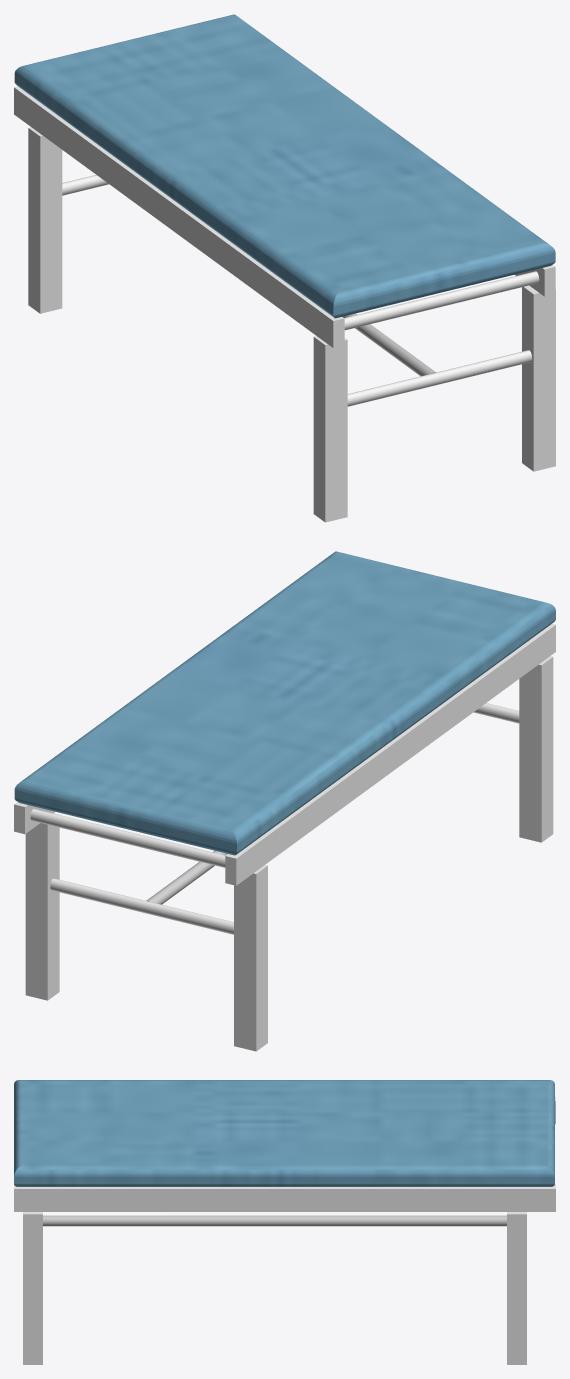
File: examination_bed.dae
The picture shows the model from 3 angles, top to bottom: view 1: azimuth 30°, elevation 25°; view 2: azimuth 150°, elevation 25°; view 3: azimuth 270°, elevation 25°; orthographic projection. The views are drawn at different scales.
Visible parts, largest first — view 1: E_mattress_14, E_Component89_7, E_Component87_9, E_Component87_13, E_Component87_4, E_Component91_6, E_Component91_8, E_Component90_5; view 2: E_mattress_14, E_Component89_7, E_Component87_9, E_Component87_13, E_Component87_12, E_Component91_10, E_Component91_11, E_Component90_5, E_Component89_3; view 3: E_mattress_14, E_Component89_3, E_Component90_5, E_Component87_12, E_Component87_4.
Boxes of the visible parts, left/top/right/bottom form: E_mattress_14: left=14, top=14, right=555, bottom=318; E_Component89_7: left=14, top=86, right=344, bottom=347; E_Component87_9: left=313, top=336, right=347, bottom=522; E_Component87_13: left=28, top=127, right=62, bottom=313; E_Component87_4: left=522, top=285, right=555, bottom=471; E_Component91_6: left=344, top=271, right=539, bottom=330; E_Component91_8: left=347, top=350, right=532, bottom=406; E_Component90_5: left=342, top=313, right=435, bottom=376; E_mattress_14: left=14, top=551, right=555, bottom=855; E_Component89_7: left=225, top=624, right=555, bottom=885; E_Component87_9: left=519, top=656, right=553, bottom=842; E_Component87_13: left=234, top=865, right=267, bottom=1051; E_Component87_12: left=25, top=813, right=59, bottom=1000; E_Component91_10: left=30, top=809, right=225, bottom=867; E_Component91_11: left=50, top=878, right=233, bottom=934; E_Component90_5: left=146, top=850, right=227, bottom=904; E_Component89_3: left=14, top=802, right=55, bottom=834; E_mattress_14: left=14, top=1080, right=554, bottom=1186; E_Component89_3: left=14, top=1184, right=555, bottom=1211; E_Component90_5: left=43, top=1215, right=506, bottom=1226; E_Component87_12: left=507, top=1212, right=526, bottom=1364; E_Component87_4: left=23, top=1212, right=42, bottom=1364.
Bounding box in the file's own units: 0.8405 × 0.7931 × 2.02.
Materials: 3 (1 with a texture image).
